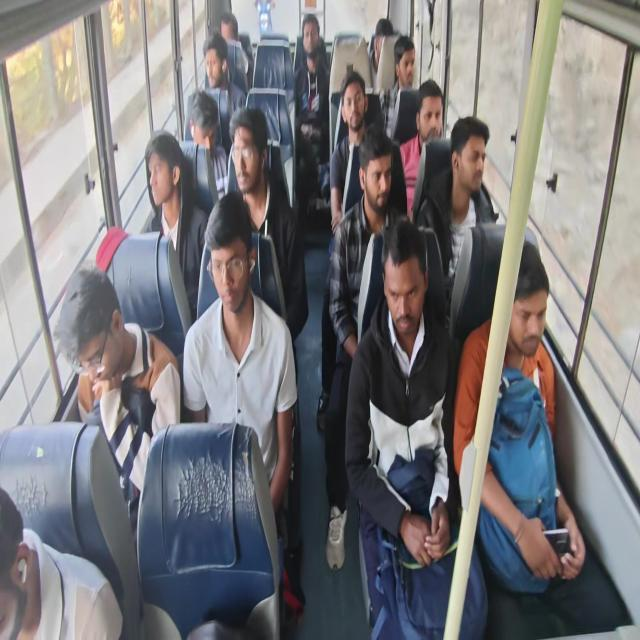person: (62, 271, 124, 382), (503, 275, 552, 364), (206, 234, 252, 328), (383, 250, 429, 342), (451, 123, 493, 200), (142, 140, 180, 213), (226, 122, 258, 202), (186, 95, 218, 162), (360, 152, 392, 217), (417, 84, 448, 143), (343, 83, 367, 132), (299, 10, 323, 56), (201, 50, 229, 89), (218, 12, 244, 50), (372, 21, 392, 59), (399, 47, 415, 85)
